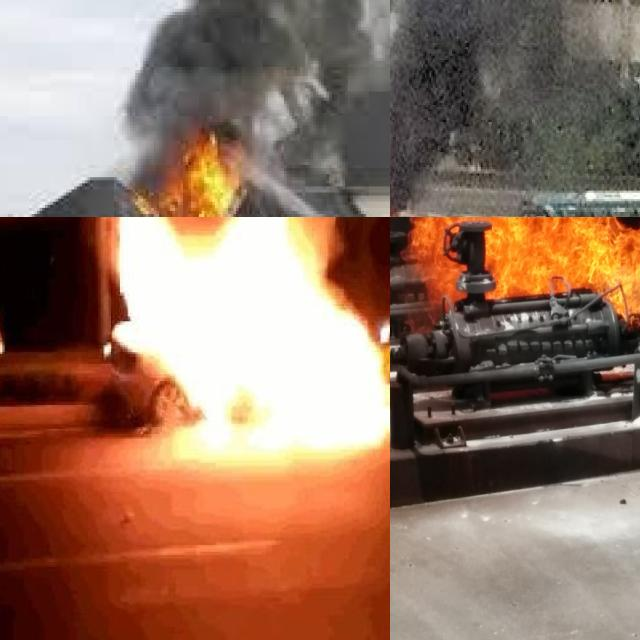fire: (114, 217, 390, 454), (390, 217, 640, 324), (127, 112, 254, 217)
smoke: (111, 0, 390, 180), (390, 0, 640, 199)
